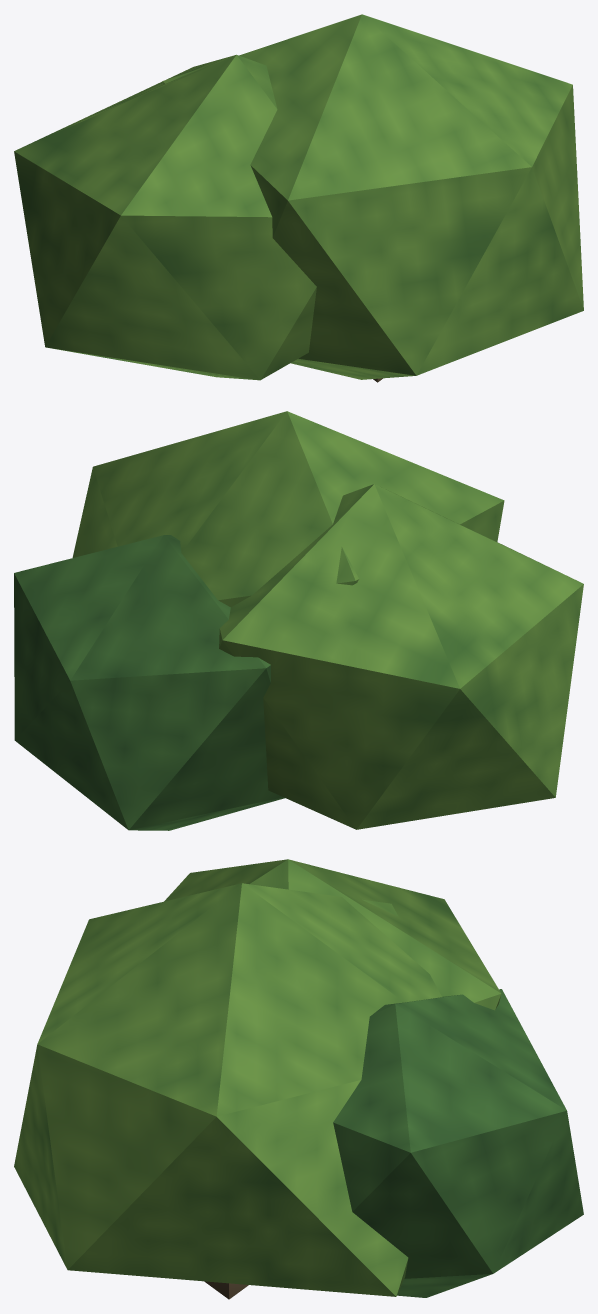
Rendered from SM_Bush01_LOD1.fbx.
3 renders of one model, top to bottom at view 1: azimuth 30°, elevation 25°; view 2: azimuth 150°, elevation 25°; view 3: azimuth 270°, elevation 25°, orthographic. The views are drawn at different scales.
Parts seen in each view (by area): view 1: SM_Bush01_LOD1; view 2: SM_Bush01_LOD1; view 3: SM_Bush01_LOD1.
Boxes of the visible parts, x1,y1,x2,y2 form: SM_Bush01_LOD1: (14,14,583,382); SM_Bush01_LOD1: (14,411,583,830); SM_Bush01_LOD1: (14,859,583,1299).
Size of the model in its own units: 2.91 by 2.02 by 2.63.
Materials: 1 (1 with a texture image).
